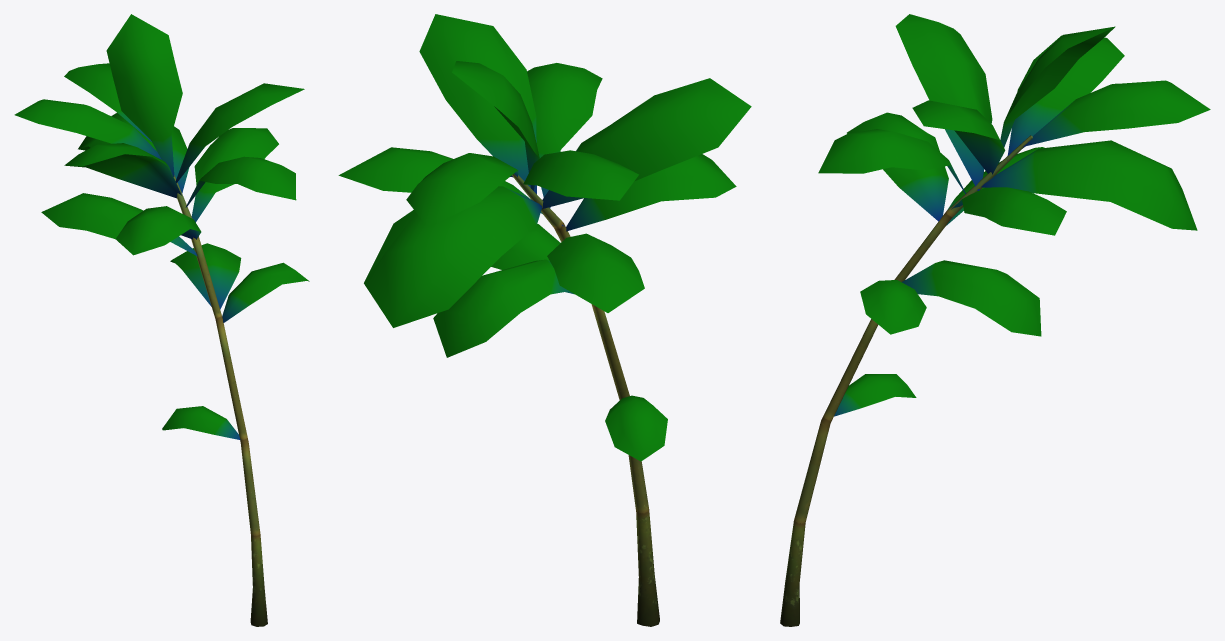
Rendered from Thin_Palm_A.FBX.
The picture shows the model from 3 angles, left to right: view 1: azimuth 30°, elevation 25°; view 2: azimuth 150°, elevation 25°; view 3: azimuth 270°, elevation 25°; orthographic projection. The views are drawn at different scales.
Visible parts, largest first — view 1: Thin_Palm_A; view 2: Thin_Palm_A; view 3: Thin_Palm_A.
Part boxes in pixels (x1,y1,x2,y2): Thin_Palm_A: (14, 14, 309, 626); Thin_Palm_A: (338, 14, 751, 626); Thin_Palm_A: (780, 14, 1210, 626).
Bounding box in the file's own units: 367 × 721 × 468.
